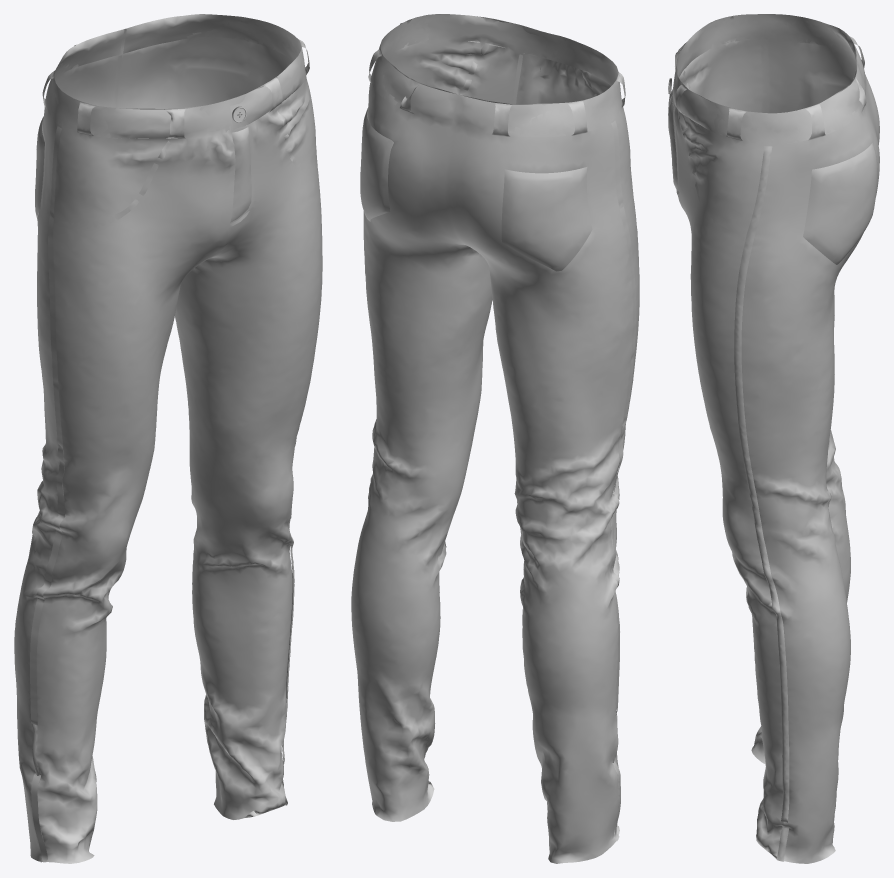
3 renders of one model, left to right at view 1: azimuth 30°, elevation 25°; view 2: azimuth 150°, elevation 25°; view 3: azimuth 270°, elevation 25°, orthographic. The views are drawn at different scales.
Parts seen in each view (by area): view 1: Pants Skinny LP; view 2: Pants Skinny LP; view 3: Pants Skinny LP.
Boxes of the visible parts, <box> form: Pants Skinny LP: <box>14,14,322,863</box>; Pants Skinny LP: <box>351,14,639,863</box>; Pants Skinny LP: <box>668,14,879,863</box>.
Bounding box in the file's own units: 0.3796 × 1.06 × 0.2704.
